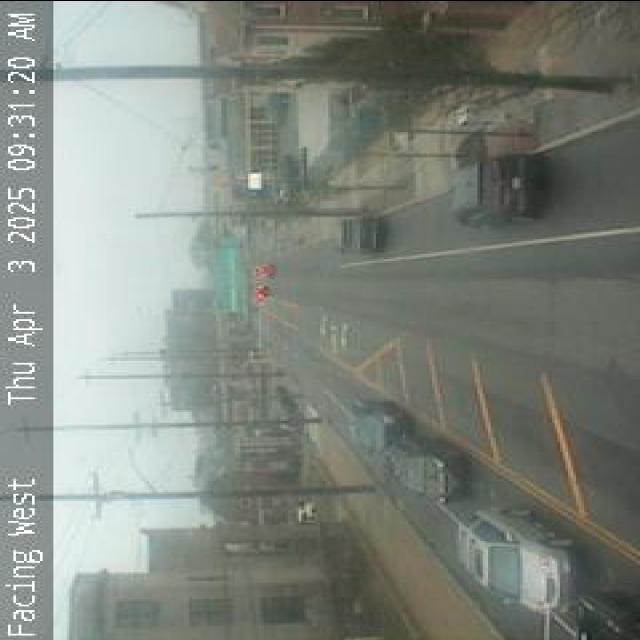open parking: (290, 95, 640, 308)
